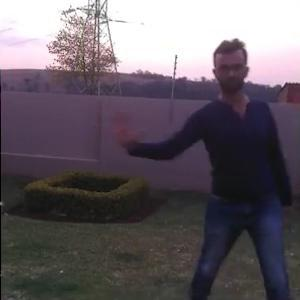follow_hand: (104, 102, 143, 148)
